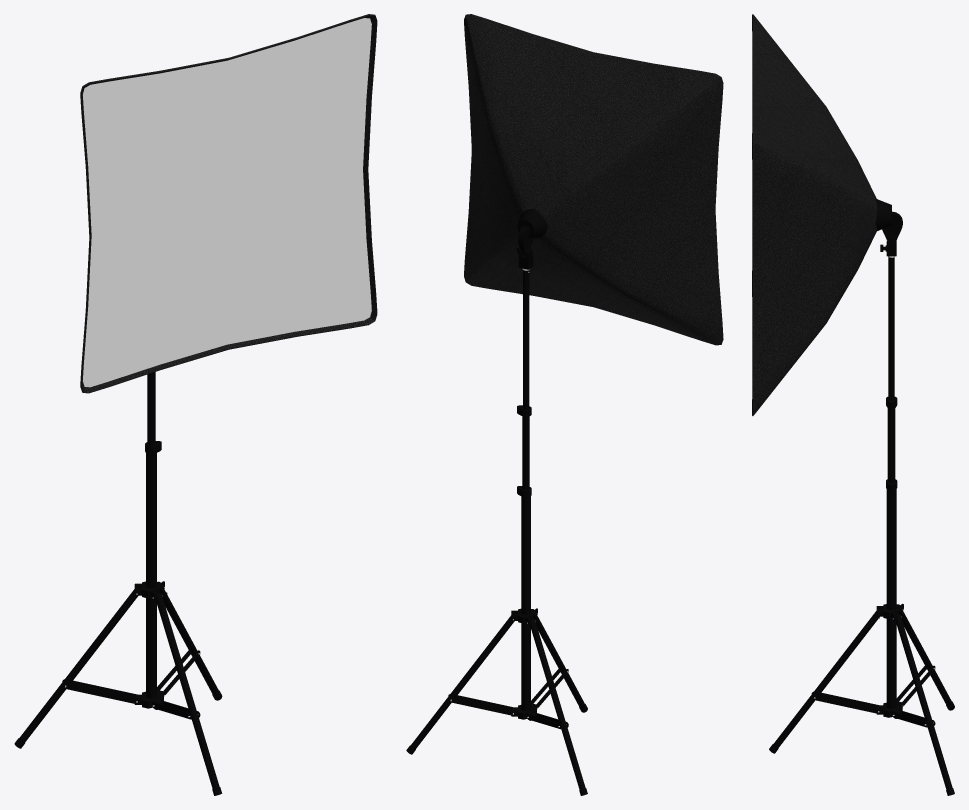
The model's file is light.obj.
3 views of the same model, side by side, from view 1: azimuth 30°, elevation 25°; view 2: azimuth 150°, elevation 25°; view 3: azimuth 270°, elevation 25° (orthographic). The views are drawn at different scales.
Parts seen in each view (by area): view 1: #LMP0001_Lightbox_#LMP0001_Textures_0, #LMP0001_Bottom_#LMP0001_Textures_0, #LMP0001_Middle_#LMP0001_Textures_0; view 2: #LMP0001_Lightbox_#LMP0001_Textures_0, #LMP0001_Bottom_#LMP0001_Textures_0, #LMP0001_Top_#LMP0001_Textures_0, #LMP0001_Middle_#LMP0001_Textures_0; view 3: #LMP0001_Lightbox_#LMP0001_Textures_0, #LMP0001_Bottom_#LMP0001_Textures_0, #LMP0001_Top_#LMP0001_Textures_0, #LMP0001_Middle_#LMP0001_Textures_0.
Part boxes in pixels (x1,y1,x2,y2): #LMP0001_Lightbox_#LMP0001_Textures_0: (80, 14, 377, 393); #LMP0001_Bottom_#LMP0001_Textures_0: (14, 441, 222, 795); #LMP0001_Middle_#LMP0001_Textures_0: (147, 372, 155, 445); #LMP0001_Lightbox_#LMP0001_Textures_0: (464, 14, 723, 345); #LMP0001_Bottom_#LMP0001_Textures_0: (406, 486, 587, 795); #LMP0001_Top_#LMP0001_Textures_0: (522, 268, 529, 409); #LMP0001_Middle_#LMP0001_Textures_0: (517, 405, 531, 489); #LMP0001_Lightbox_#LMP0001_Textures_0: (752, 14, 902, 415); #LMP0001_Bottom_#LMP0001_Textures_0: (769, 479, 954, 795); #LMP0001_Top_#LMP0001_Textures_0: (888, 256, 894, 399); #LMP0001_Middle_#LMP0001_Textures_0: (886, 396, 897, 482).
Size of the model in its own units: 0.9287 by 2.26 by 0.6134.
Materials: 1 (1 with a texture image).
